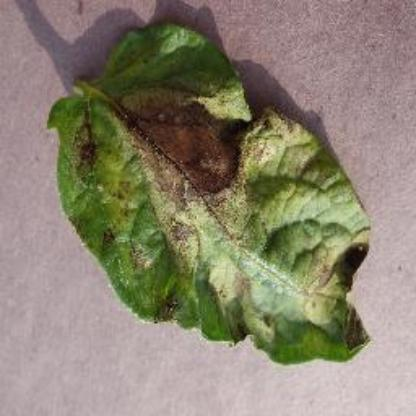Late-Blight: (40, 24, 380, 364)
